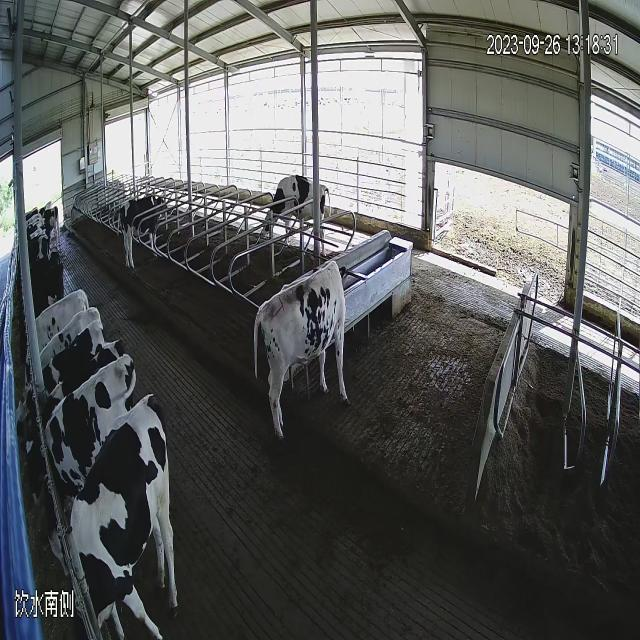feeding: (19, 346, 140, 518), (6, 311, 114, 449)
standing: (58, 388, 188, 640), (249, 249, 365, 453), (258, 164, 336, 266), (115, 180, 177, 282)
